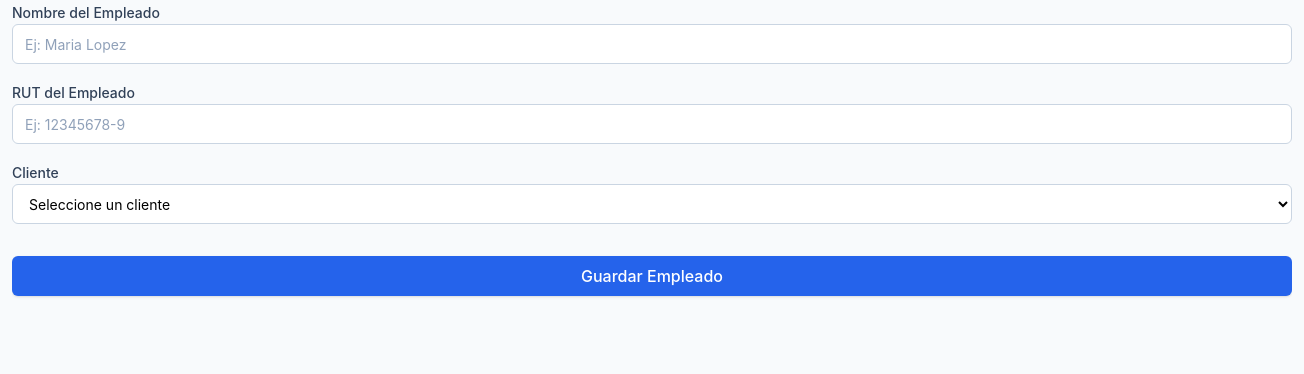
Test: EmployeeForm Component › shows validation errors for empty fields
Click the button "Guardar Empleado" at (652, 276), box [12, 256, 1292, 296]
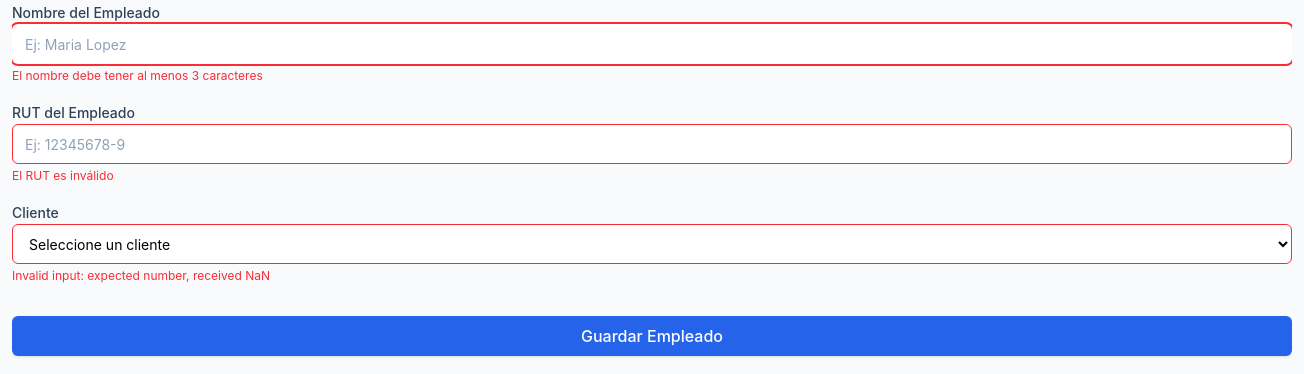
expect the text "El nombre debe tener al menos 3 caracteres" is shown: met, box [12, 68, 263, 83]
expect the text "El RUT es inválido" is shown: met, box [12, 168, 114, 183]
expect the text "Invalid input: expected number, received NaN" is shown: met, box [12, 268, 270, 283]
